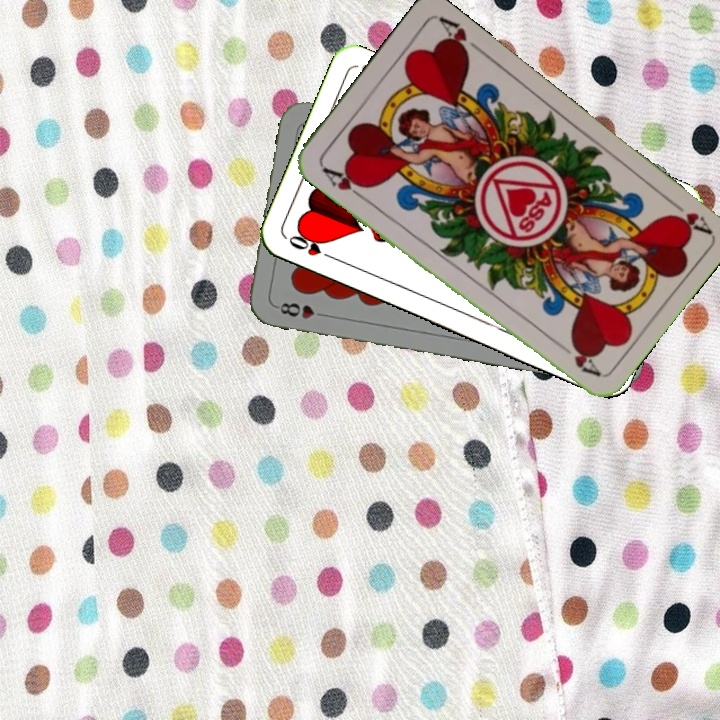H8: (272, 298, 331, 321)
HA: (662, 193, 713, 236), (318, 162, 371, 203)
HO: (284, 230, 340, 263)
